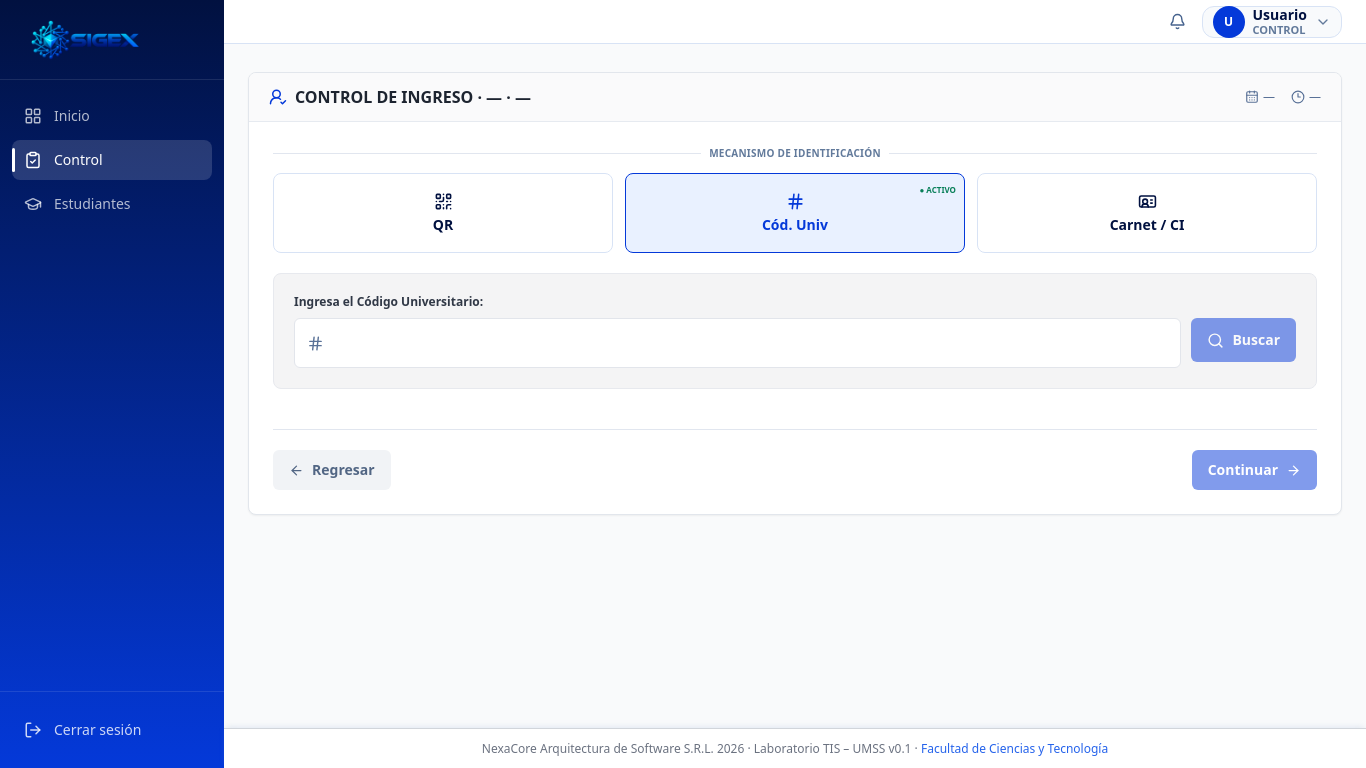
Test case: IdentificacionPage › HABILITADO muestra el badge "HABILITADO" y habilita Continuar
In the field labelled "Ingresa el Código Universitario:": (751, 343) [334, 319, 1168, 367], type "202104010"
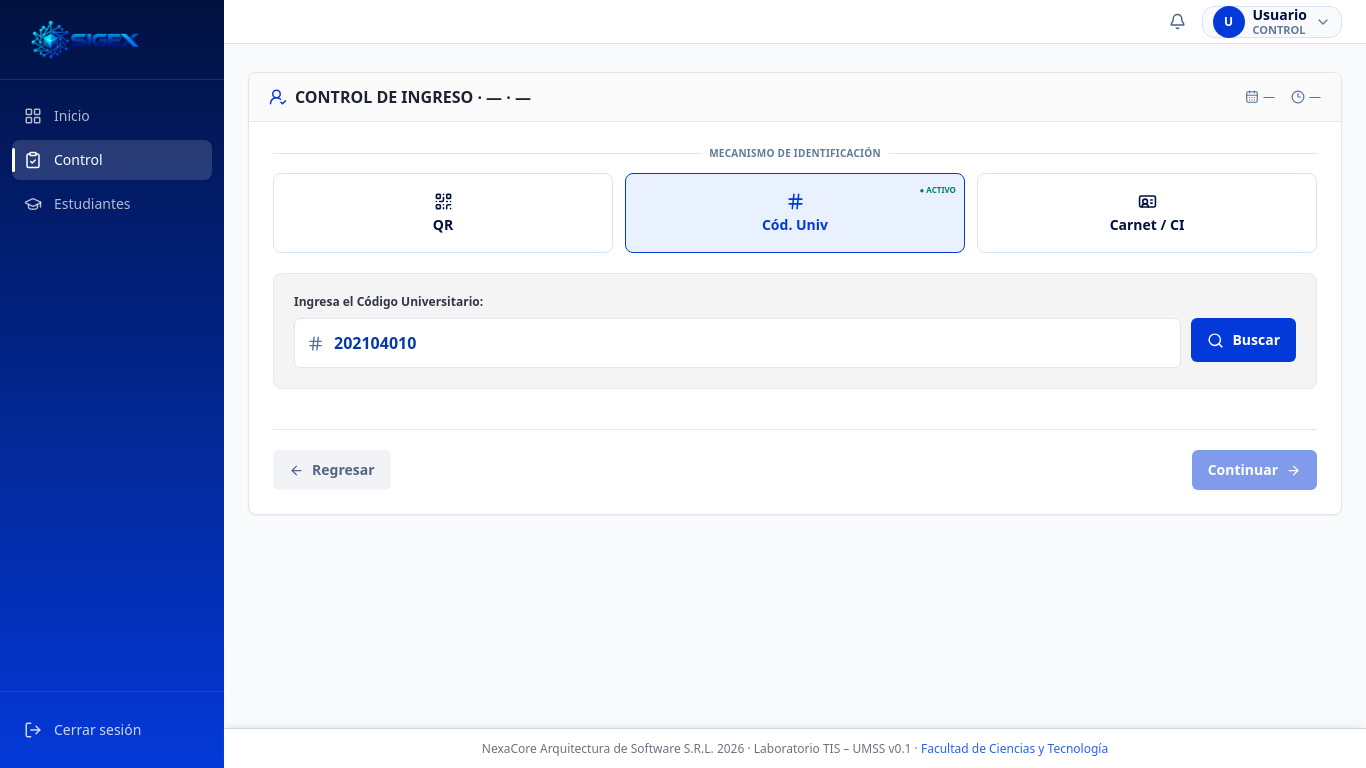
Click the button "Buscar": (1244, 340) [1191, 318, 1296, 362]
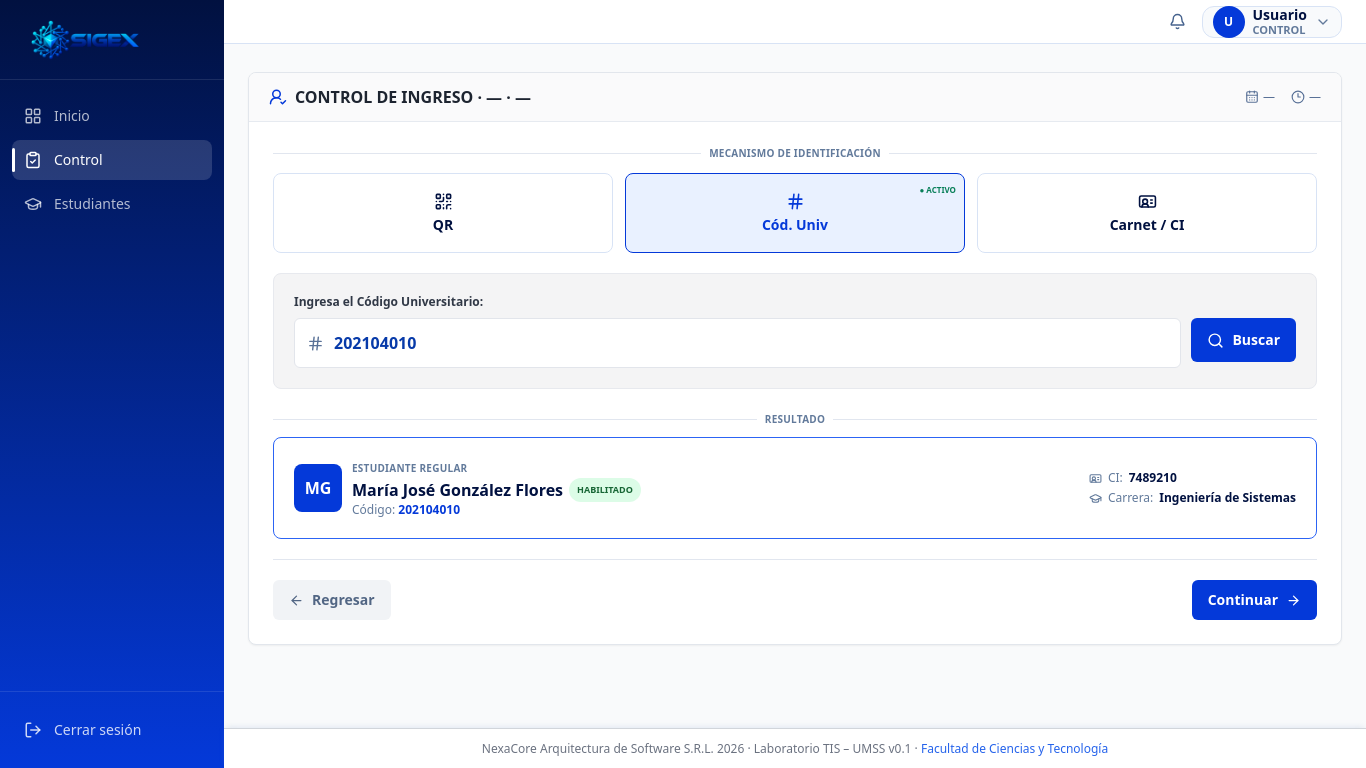
Expected: the text "María José González Flores" is shown, [352, 478, 563, 502]
Expected: the text "HABILITADO" is shown, [569, 478, 641, 502]
Expected: the text "Ingeniería de Sistemas" is shown, [1159, 490, 1296, 506]
